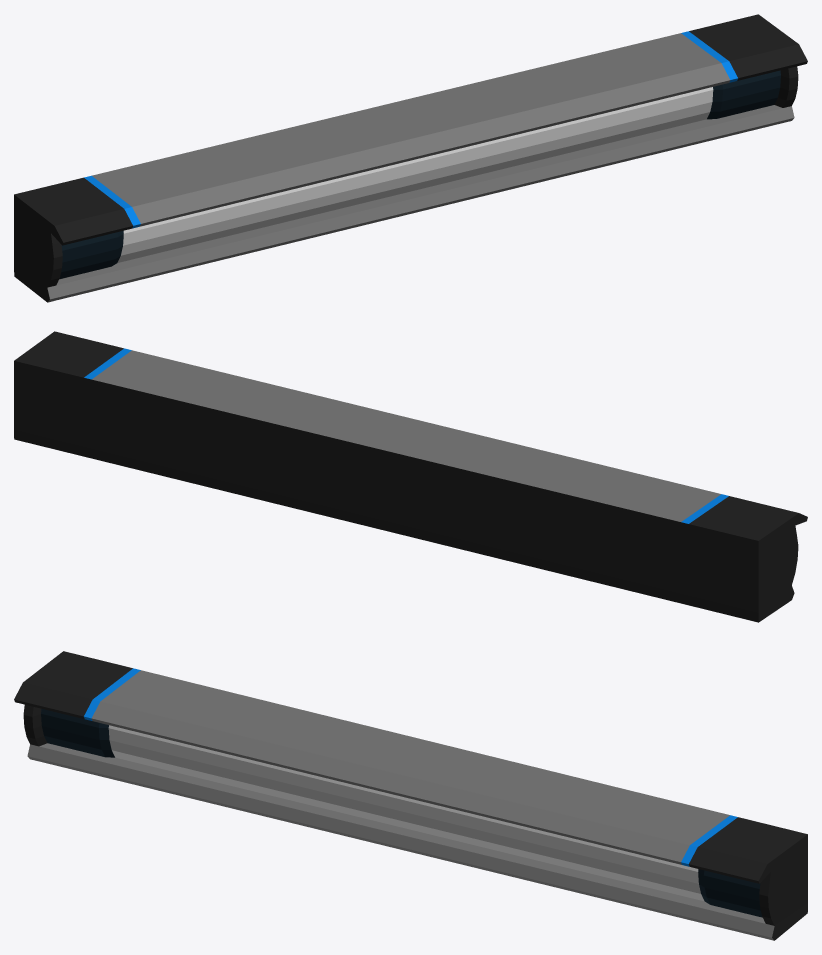
File: lampara-1.fbx
The picture shows the model from 3 angles, top to bottom: view 1: azimuth 30°, elevation 25°; view 2: azimuth 150°, elevation 25°; view 3: azimuth 330°, elevation 25°; orthographic projection.
Parts seen in each view (by area): view 1: lampara-1; view 2: lampara-1; view 3: lampara-1.
Boxes of the visible parts, bbox=[...] form: lampara-1: bbox=[14, 14, 807, 302]; lampara-1: bbox=[14, 331, 807, 622]; lampara-1: bbox=[14, 651, 807, 940].
Size of the model in its own units: 113 by 12.18 by 13.04.
